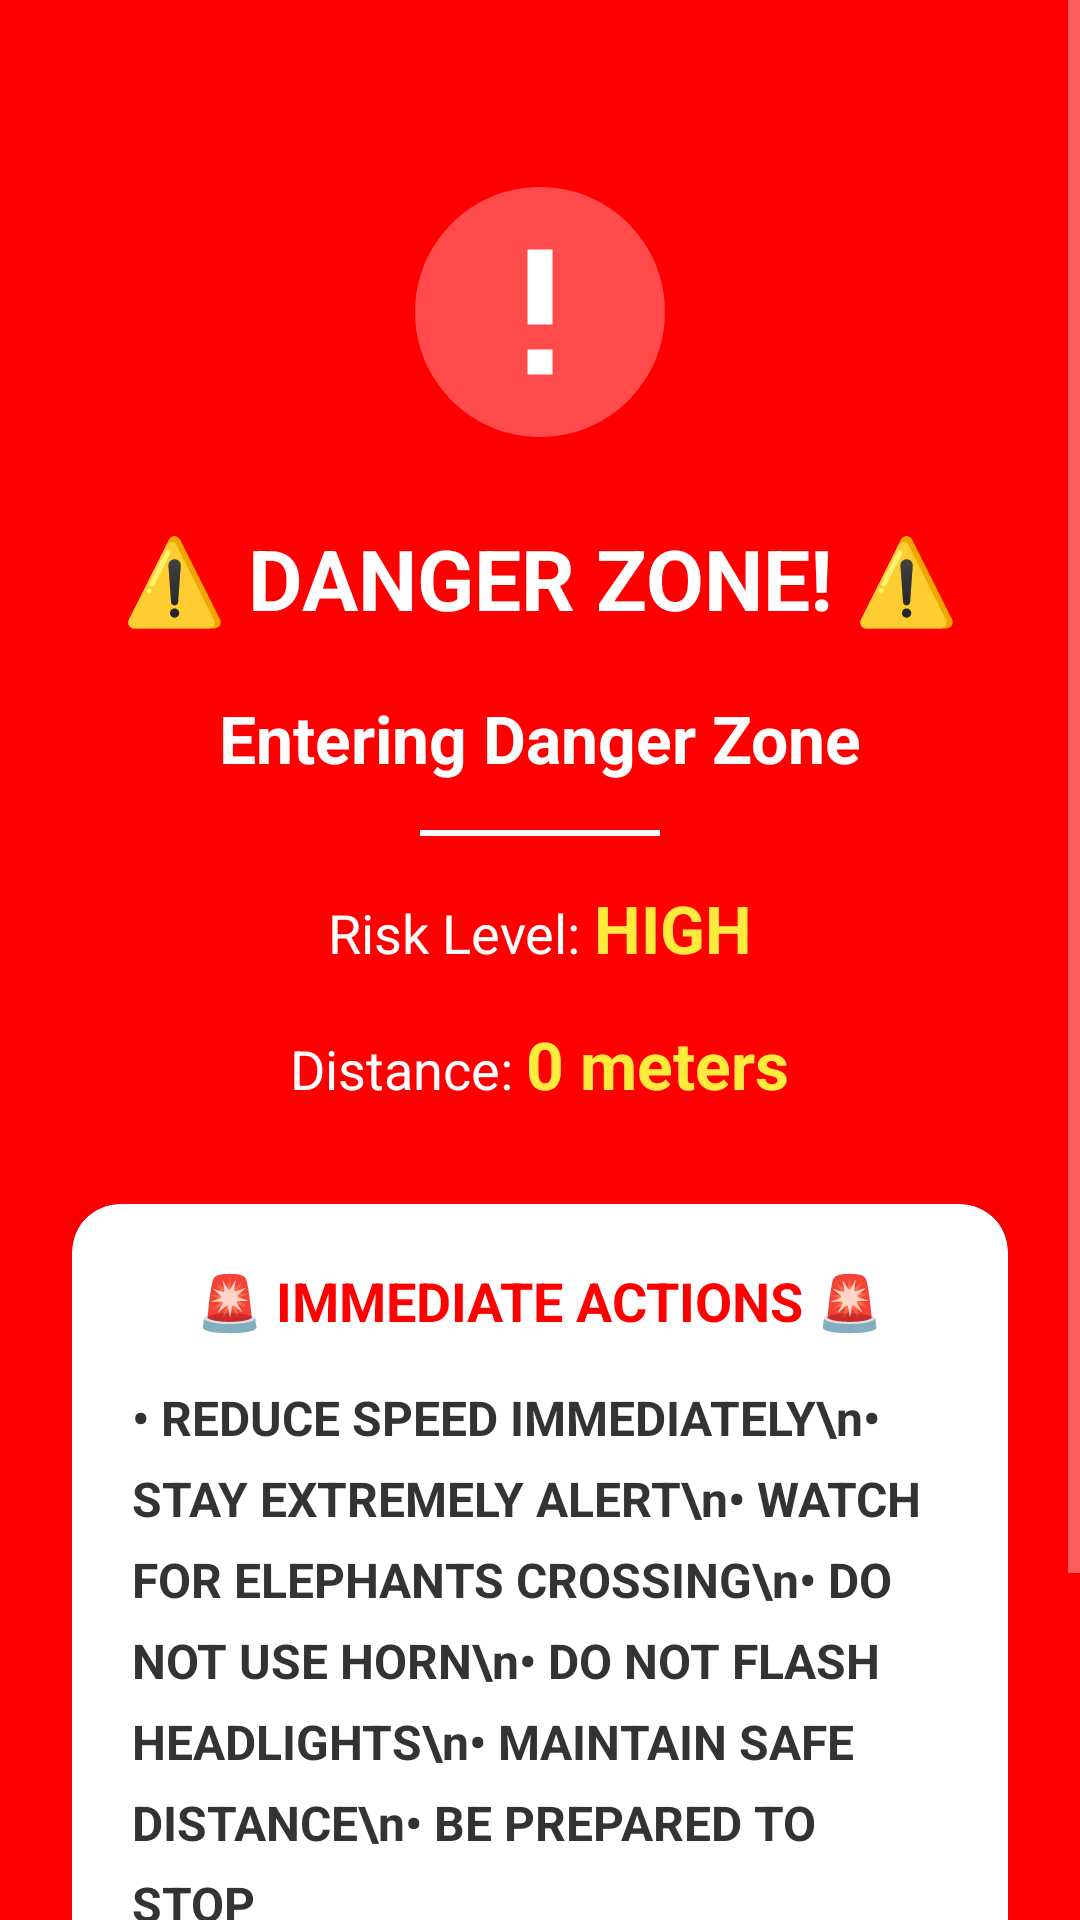

Screen size 1080w x 1920h. Icon name, then its box in pixels as (x1, y1, x2, y2):
danger alert: (415, 187, 665, 437)
